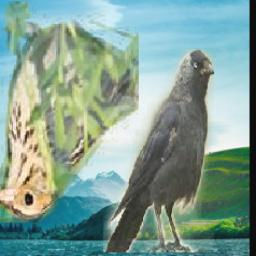Crow: (104, 49, 215, 252)
Sparrow: (0, 2, 140, 224)
